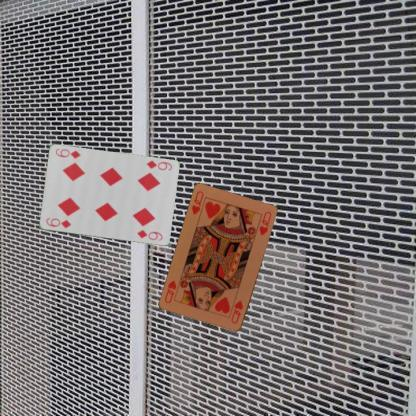6d: (144, 158, 173, 172), (44, 216, 72, 230)
Qh: (189, 188, 205, 216), (229, 298, 244, 325)
